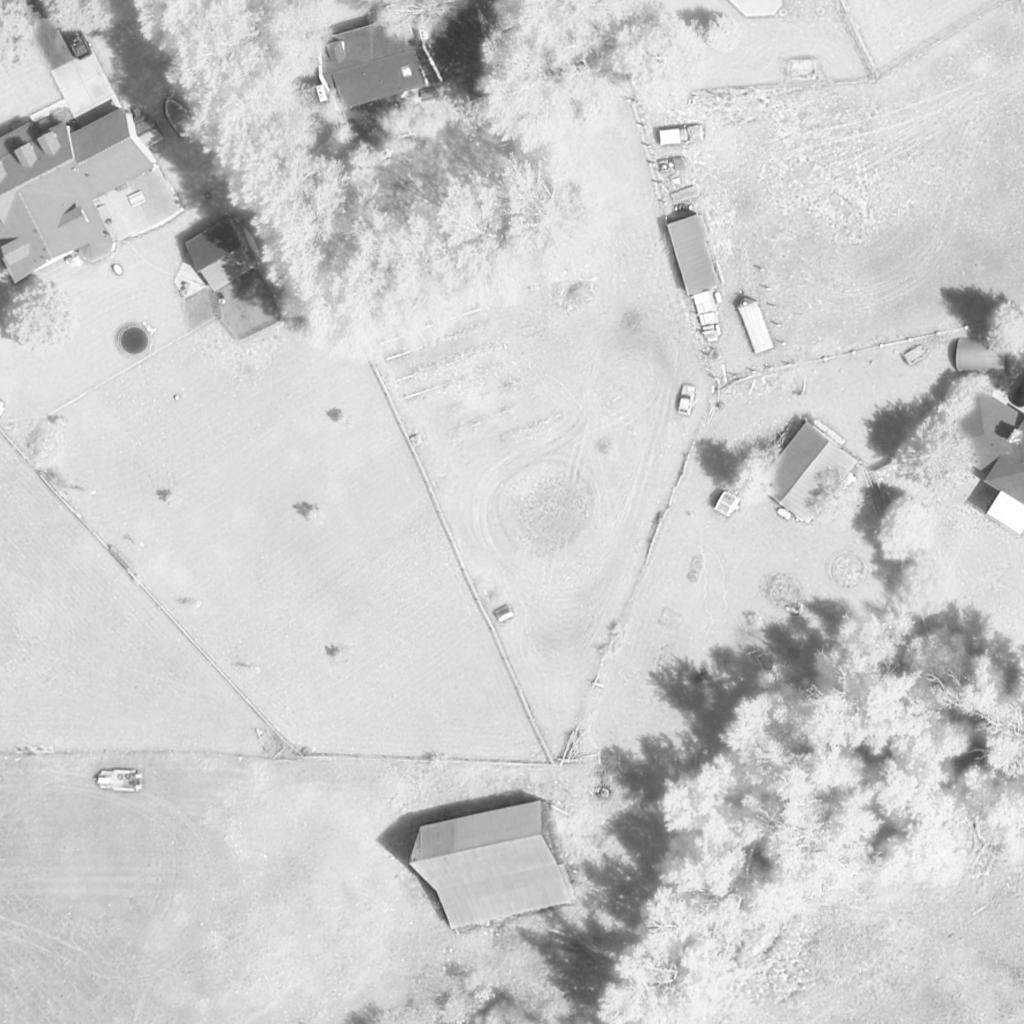vehicle: (734, 294, 776, 354), (54, 11, 94, 61), (157, 95, 201, 137), (659, 125, 705, 147), (676, 384, 696, 416)
